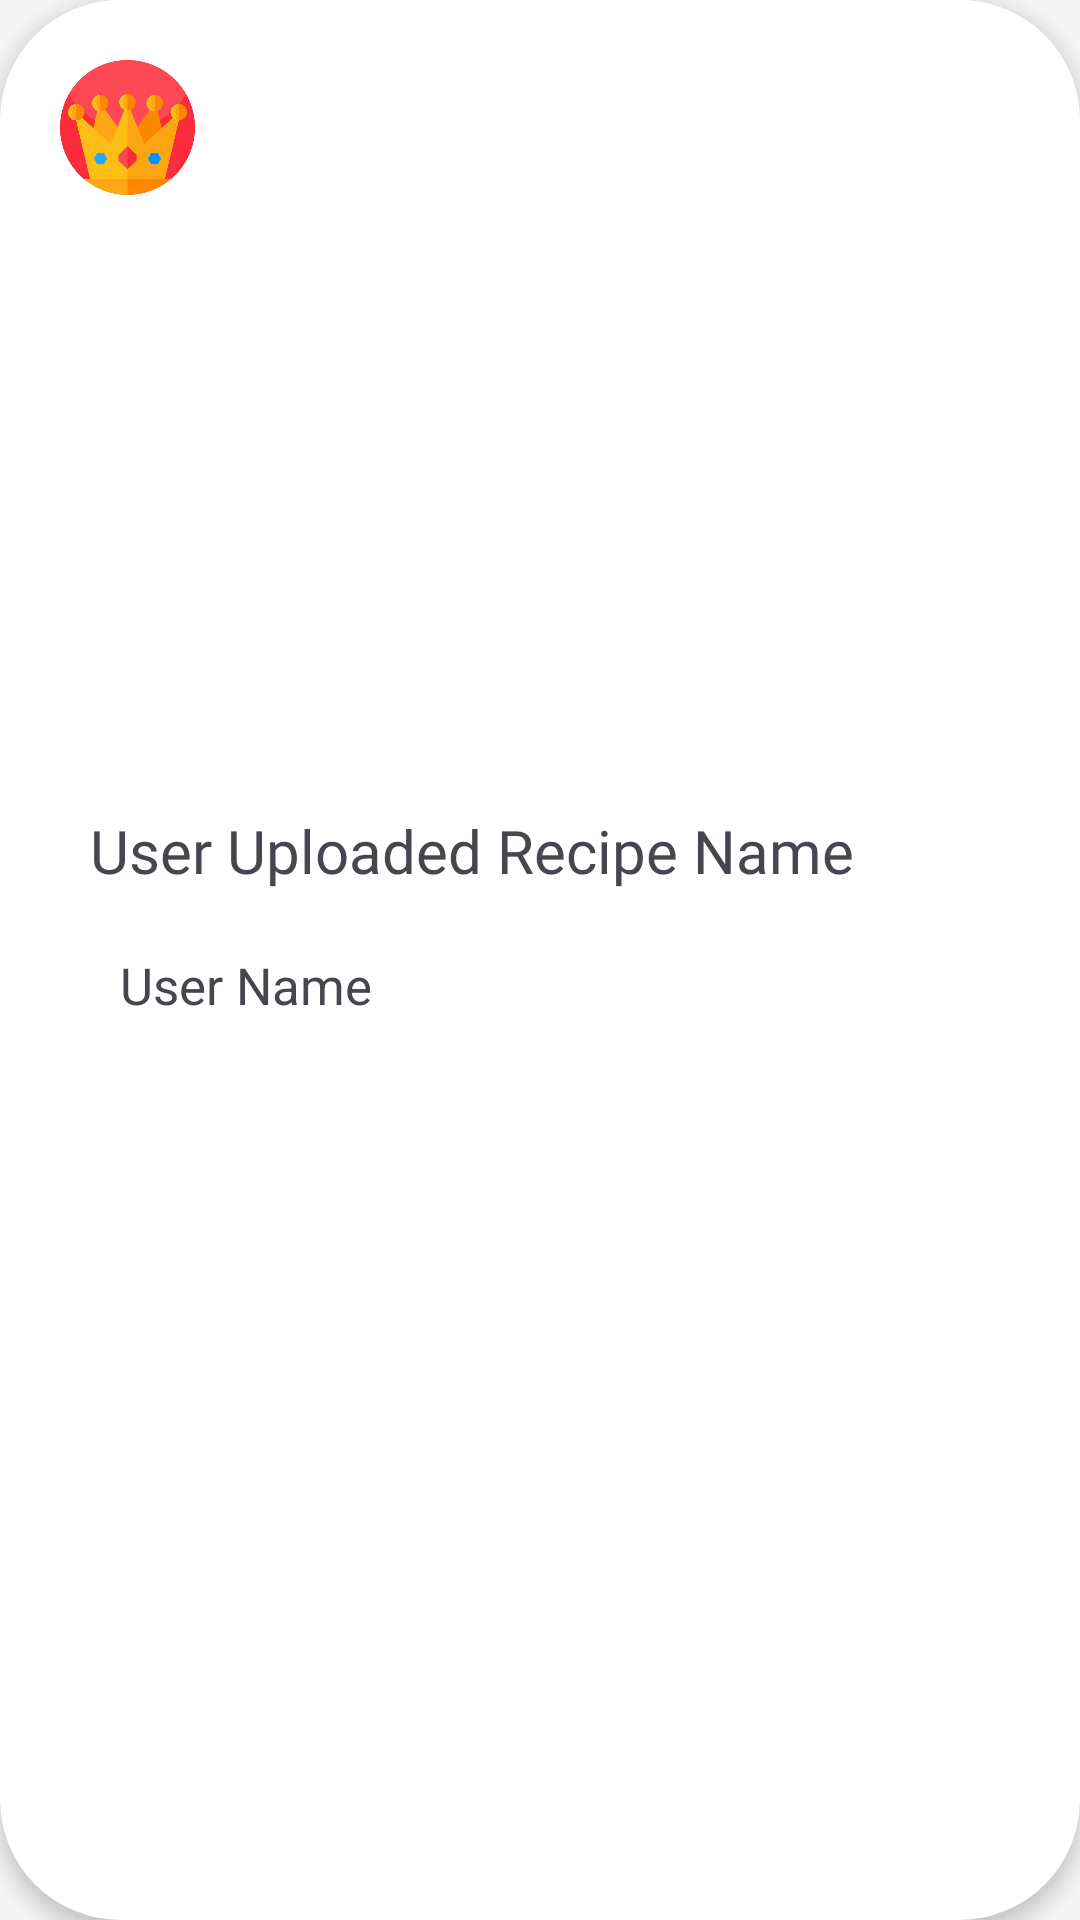

Named icons in this screenshot (1080px×1920px) and their bounding boxes, BBox(x1, y1, x2, y2):
premium: BBox(60, 60, 195, 195)
